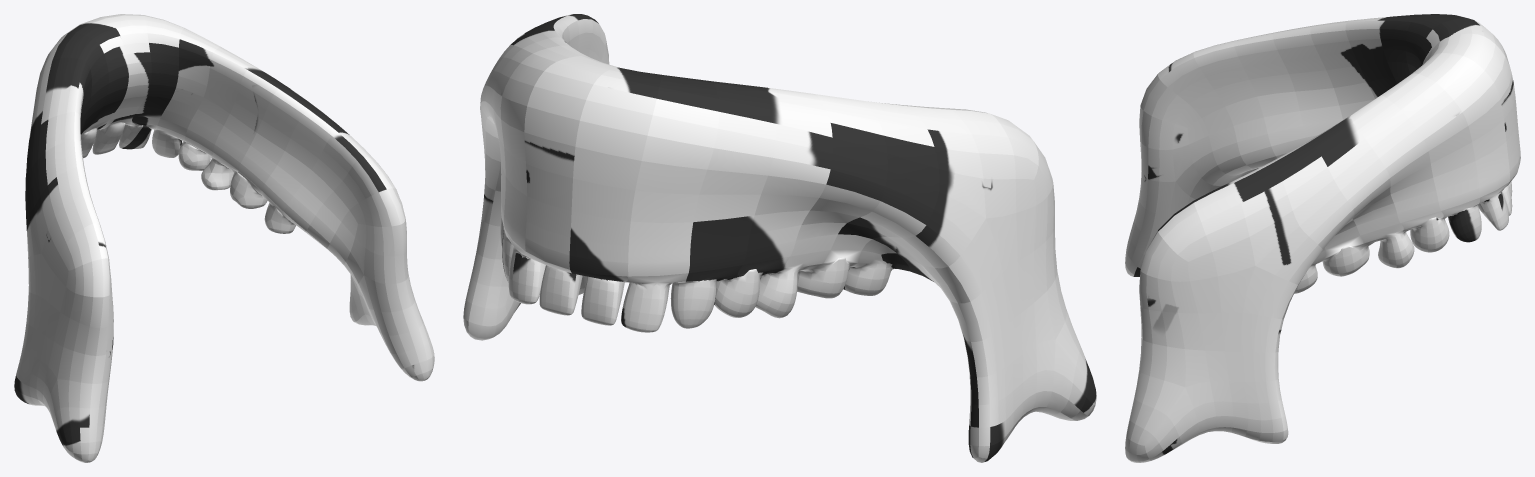
Rendered from Skull_jaw.obj.
The picture shows the model from 3 angles, left to right: view 1: azimuth 30°, elevation 25°; view 2: azimuth 150°, elevation 25°; view 3: azimuth 270°, elevation 25°; orthographic projection. The views are drawn at different scales.
Visible parts, largest first — view 1: Human_Skull.061; view 2: Human_Skull.061; view 3: Human_Skull.061.
Boxes of the visible parts, x1,y1,x2,y2 form: Human_Skull.061: (14, 14, 434, 462); Human_Skull.061: (463, 14, 1096, 462); Human_Skull.061: (1125, 14, 1520, 462).
Size of the model in its own units: 4.35 by 3.32 by 3.56.
